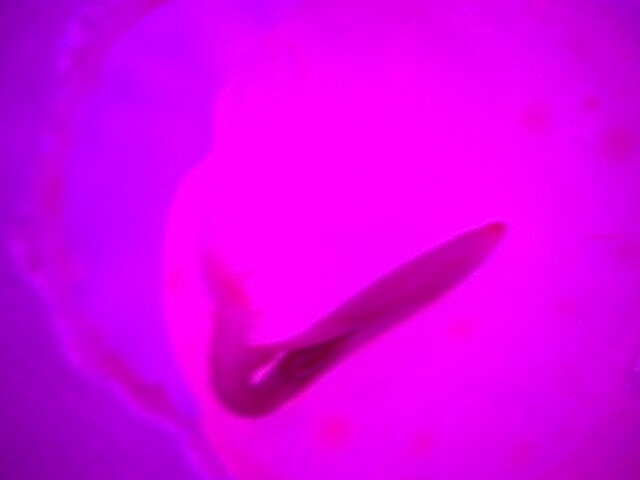sprout: (193, 223, 509, 450)
